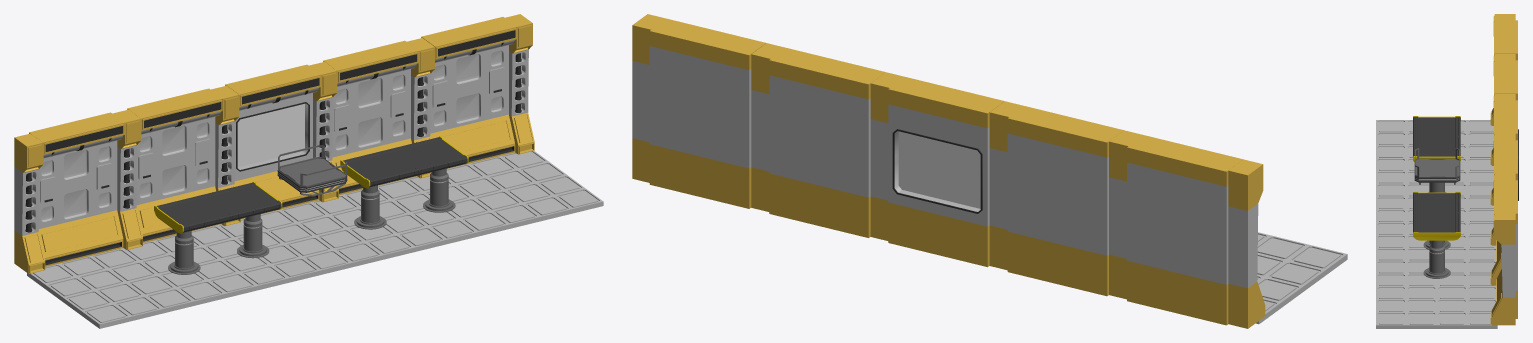
Rendered from level tutorial.fbx.
The picture shows the model from 3 angles, left to right: view 1: azimuth 30°, elevation 25°; view 2: azimuth 150°, elevation 25°; view 3: azimuth 270°, elevation 25°; orthographic projection. The views are drawn at different scales.
Visible parts, largest first — view 1: tembok lab, alas, platform, platform.001, kacak, platform melayang; view 2: tembok lab, kacak, alas; view 3: alas, tembok lab, platform.001, platform, platform melayang.
Part boxes in pixels (<box>): tembok lab: <box>14,14,534,273</box>; alas: <box>27,151,603,328</box>; platform: <box>154,181,282,274</box>; platform.001: <box>340,136,468,229</box>; kacak: <box>237,103,304,167</box>; platform melayang: <box>277,145,347,196</box>; tembok lab: <box>632,14,1265,328</box>; kacak: <box>898,131,980,208</box>; alas: <box>1256,232,1347,324</box>; alas: <box>1376,120,1497,328</box>; tembok lab: <box>1490,14,1518,325</box>; platform.001: <box>1413,191,1460,278</box>; platform: <box>1413,116,1460,192</box>; platform melayang: <box>1414,148,1460,184</box>.
Size of the model in its own units: 6992 by 1728 by 2046.
